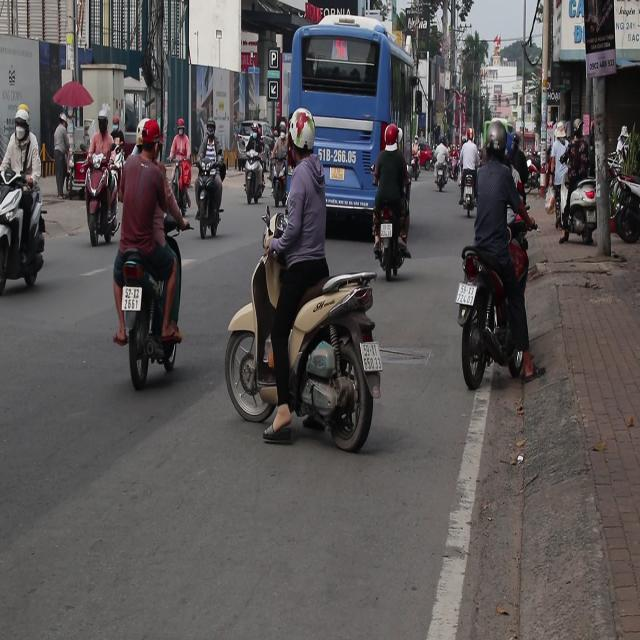bus: (283, 18, 422, 231)
car: (237, 121, 266, 145)
motorbike: (224, 228, 385, 456), (455, 228, 562, 394), (108, 262, 184, 395), (0, 171, 46, 294), (84, 149, 123, 247), (374, 205, 412, 282), (193, 177, 223, 251), (162, 154, 192, 220), (243, 155, 264, 204), (460, 175, 477, 219), (522, 164, 541, 202), (271, 157, 286, 205), (435, 162, 449, 192)
